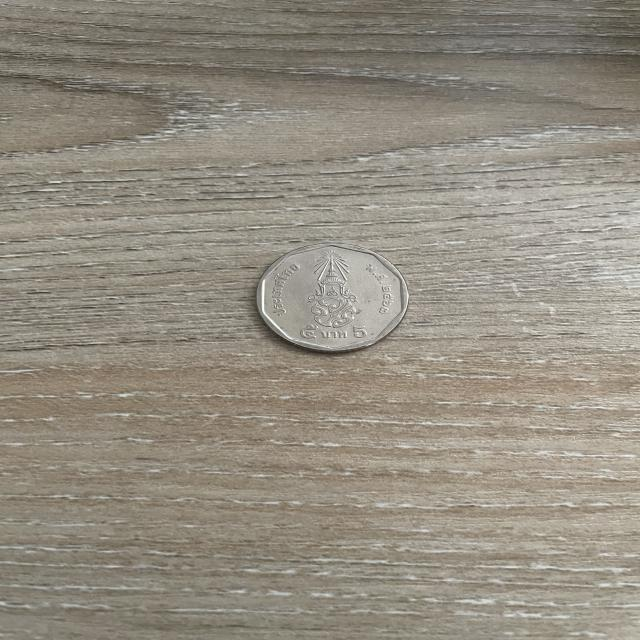5 Bath: (243, 233, 429, 363)
